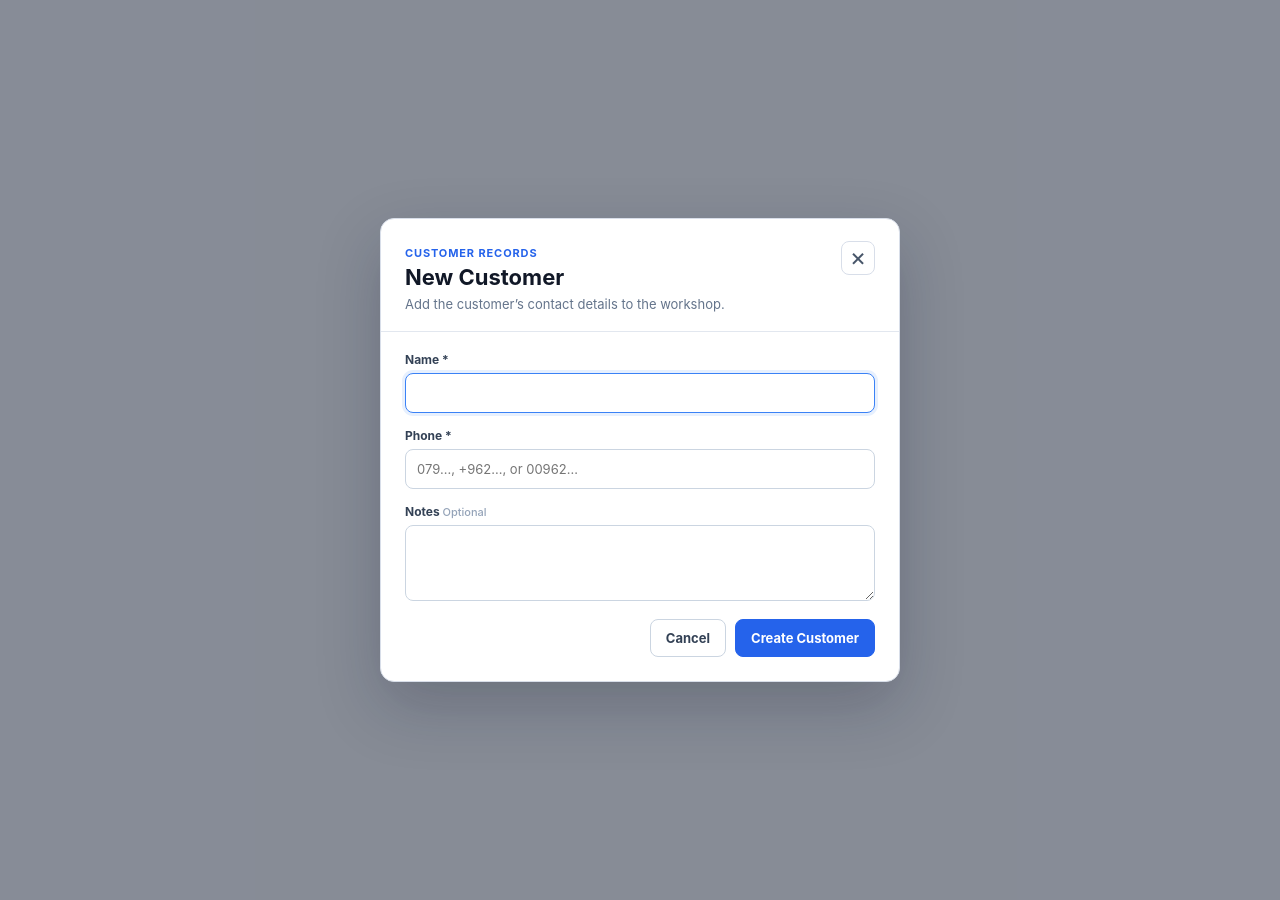
Scenario: NewCustomerDialog › shows safe customerPhoneAlreadyExists feedback
The width and height of the screenshot is (1280, 900).
Step 1. Type "Ahmad Ali" into the field labelled "Name" → [640, 393], box x1=405 y1=373 x2=875 y2=413
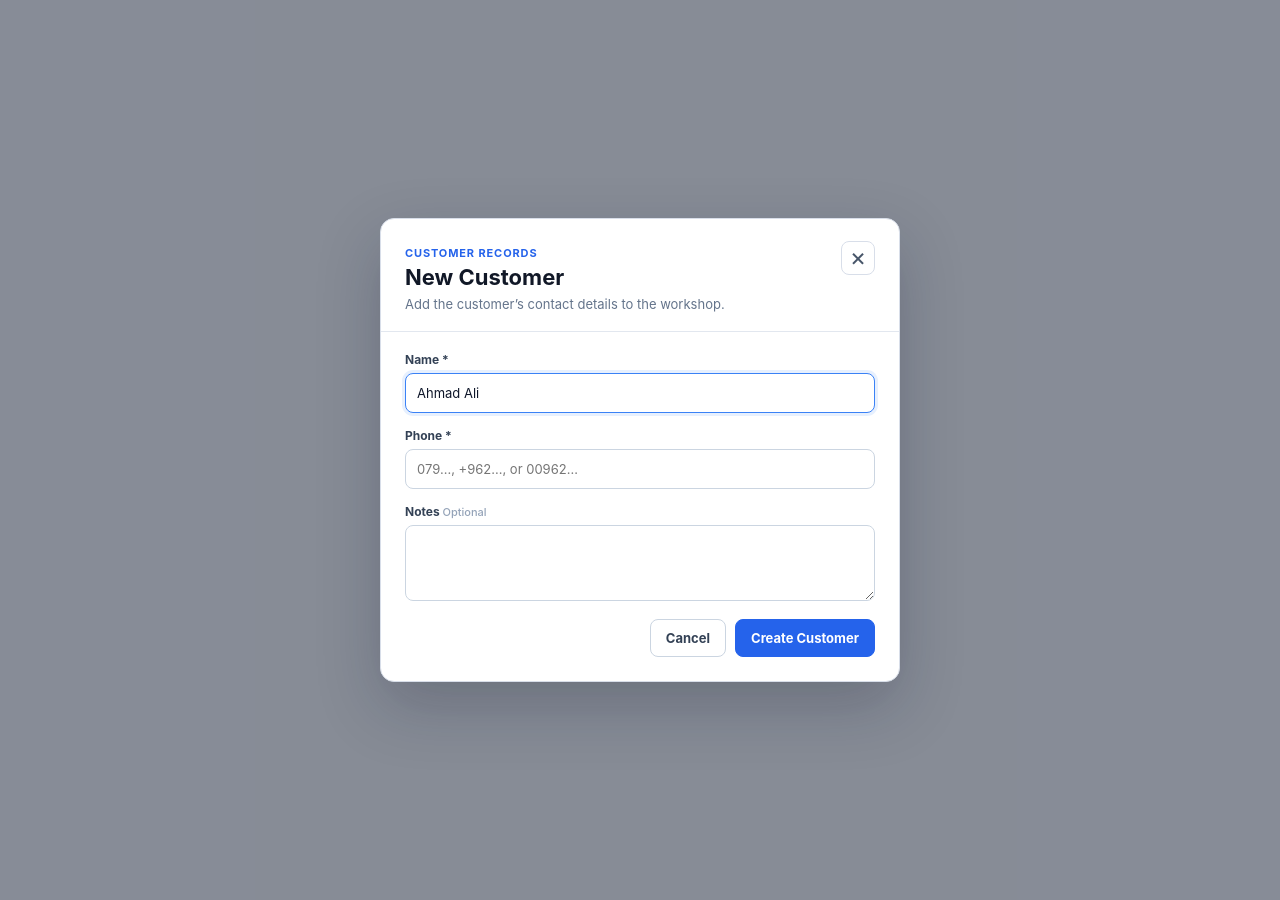
Step 2. Type "0791234567" into the field labelled "Phone" → [640, 469], box x1=405 y1=449 x2=875 y2=489
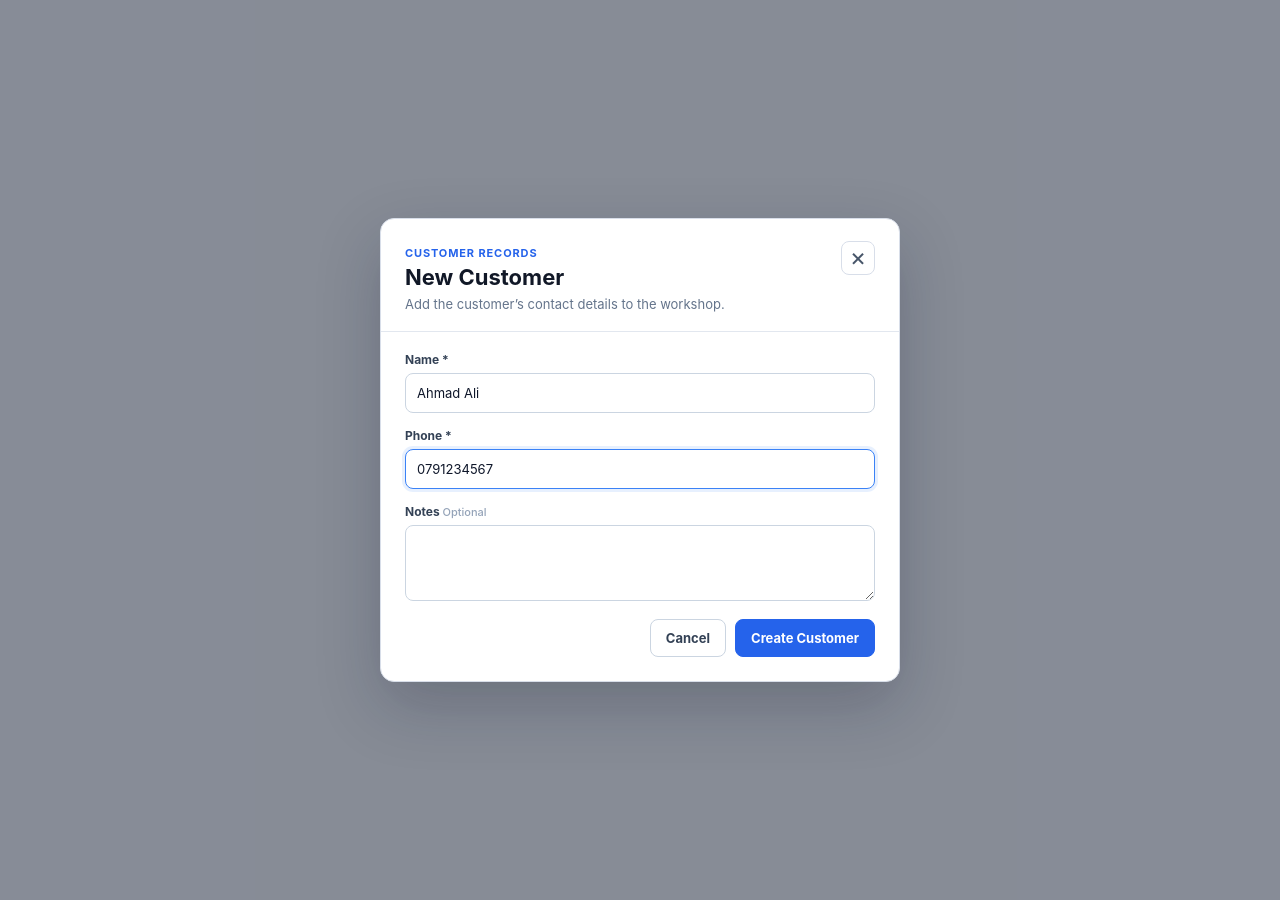
Step 3. Click the button "Create Customer" → [805, 638], box x1=735 y1=619 x2=875 y2=657
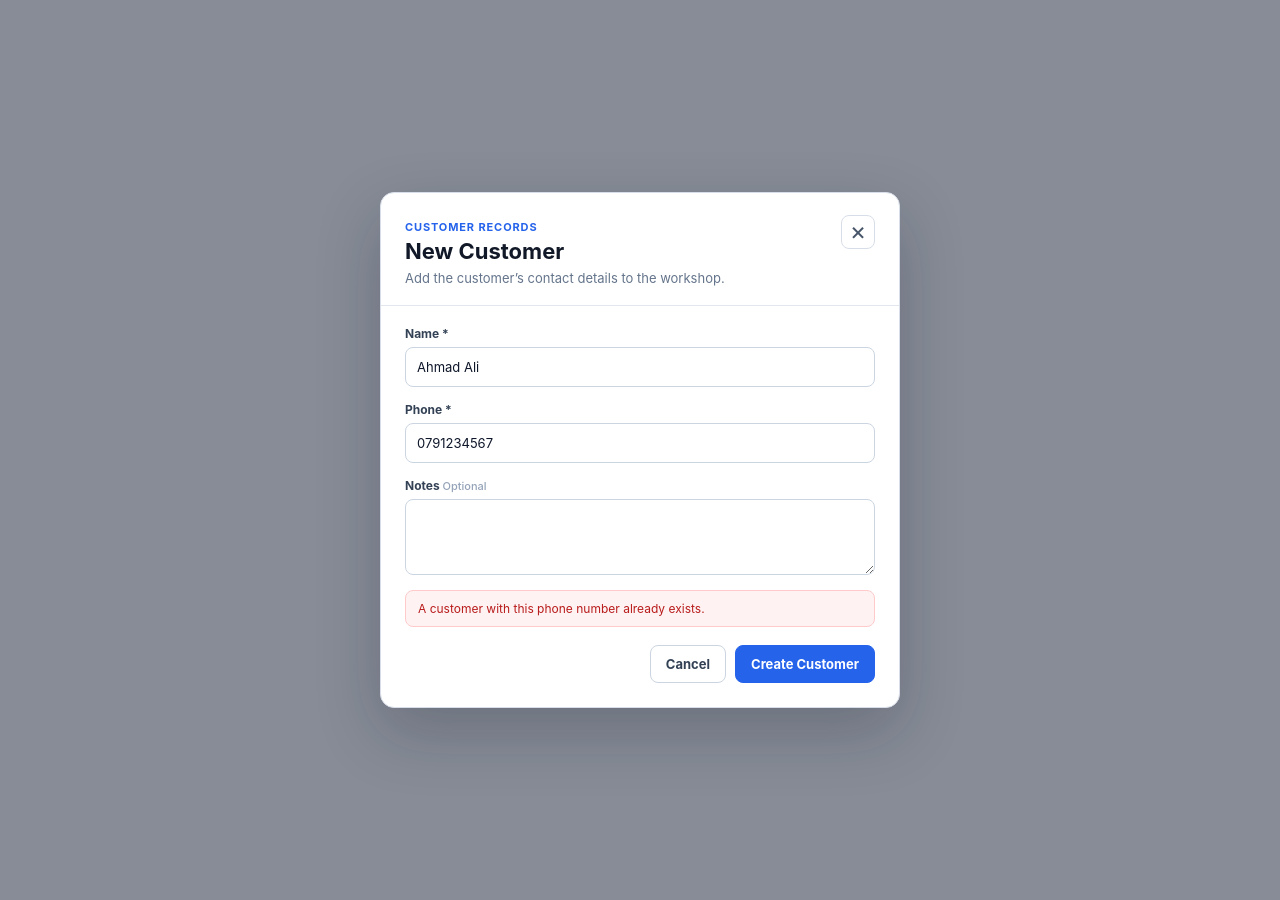
Now the text "A customer with this phone number already exists." is shown, box x1=405 y1=590 x2=875 y2=627
